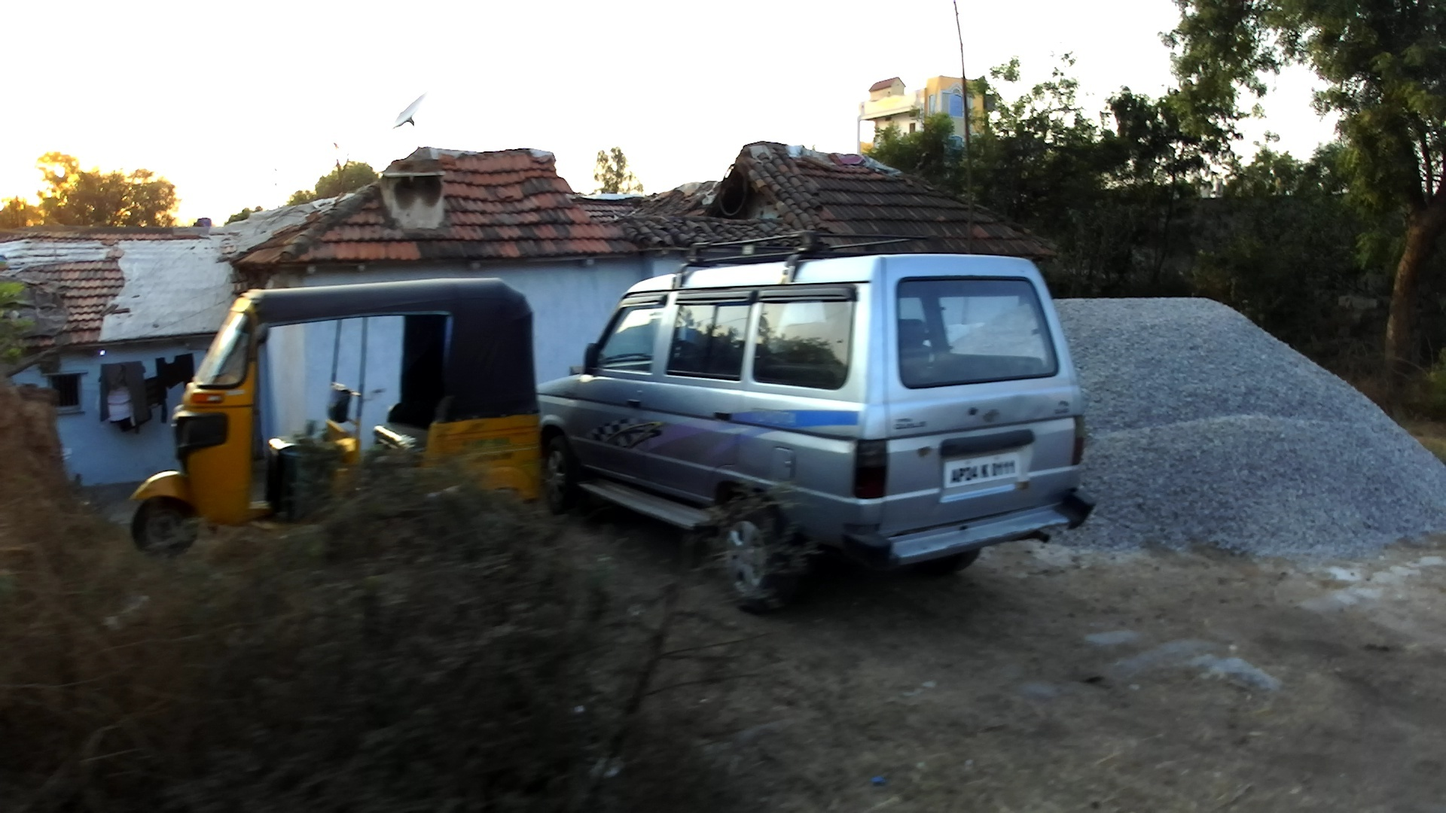autorickshaw: (130, 275, 544, 568)
car: (535, 227, 1094, 619)
